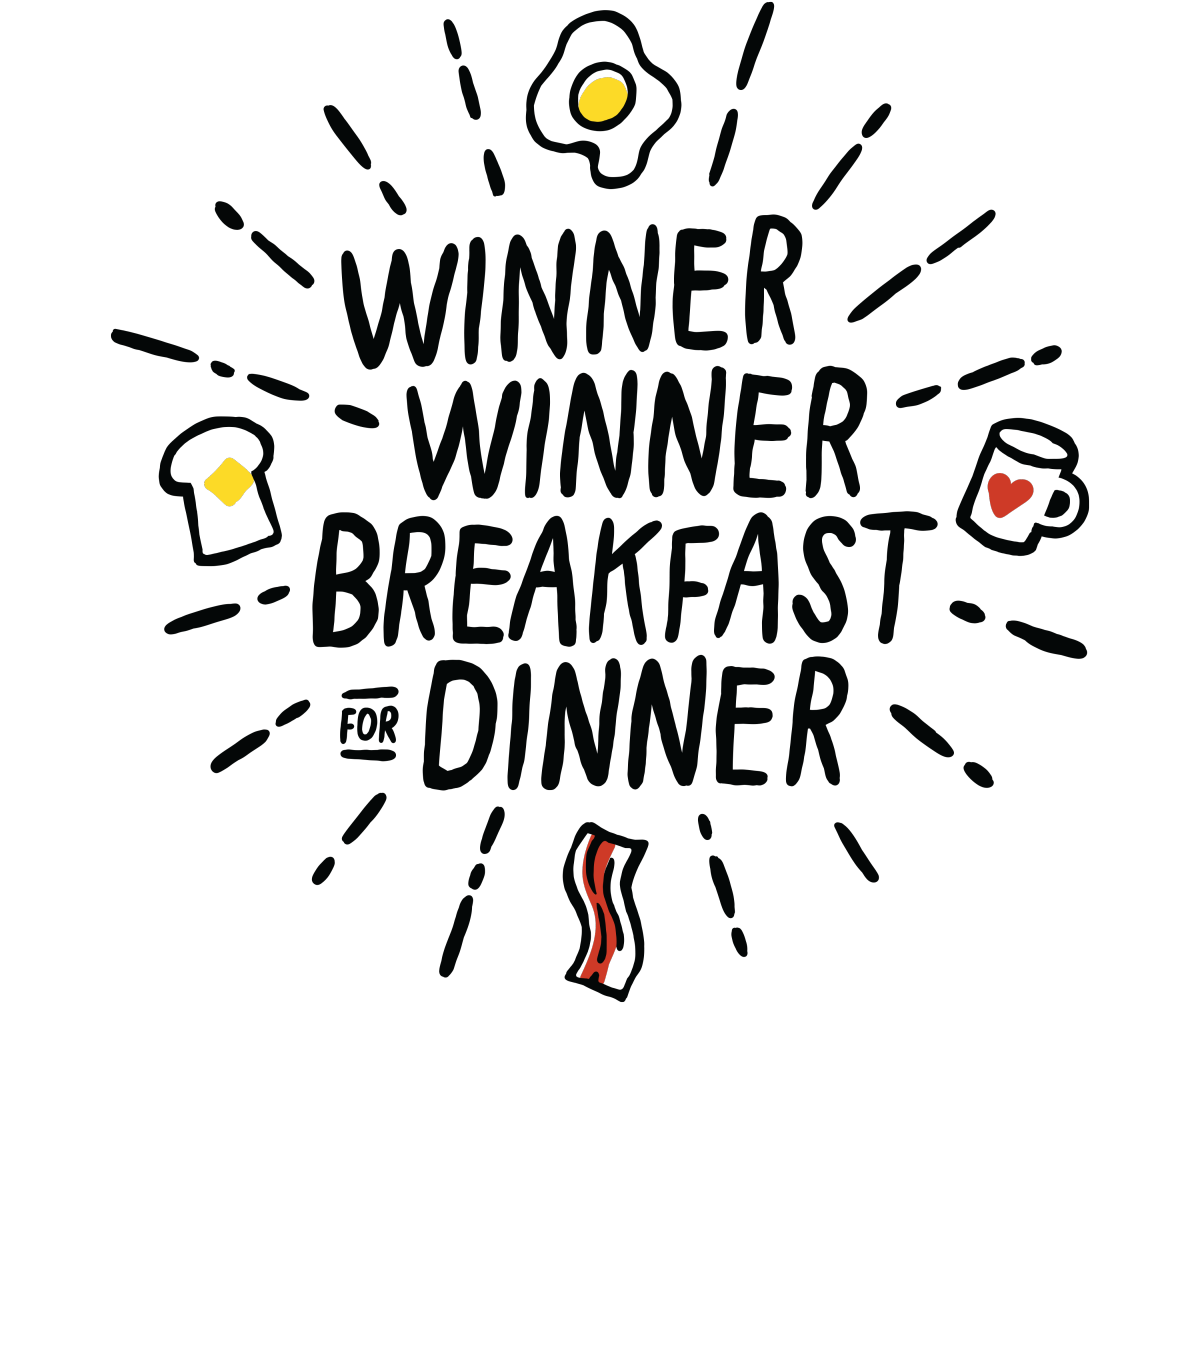design: (93, 3, 1116, 1021)
